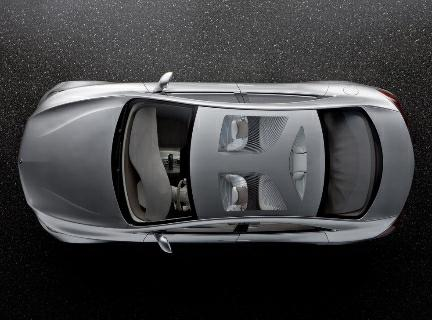奔驰-F800: (17, 69, 417, 260)
